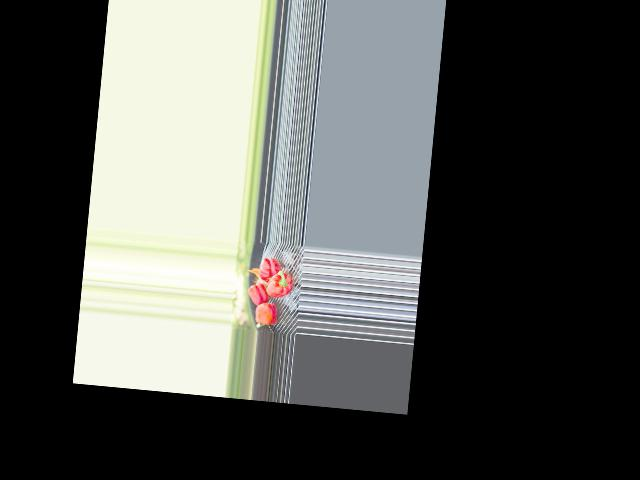bell_pepper: (257, 256, 281, 283)
